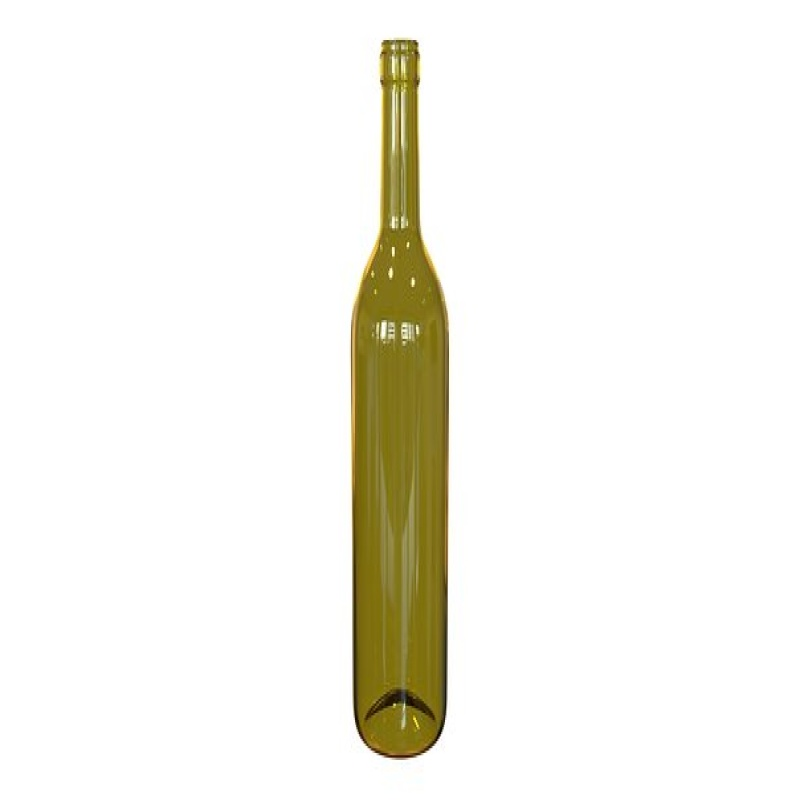wine: (350, 38, 450, 748)
